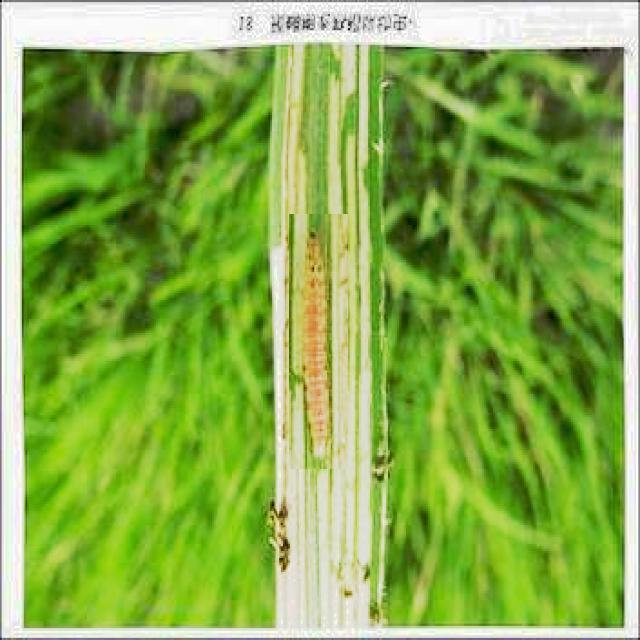leaf-folder: (289, 214, 348, 469)
